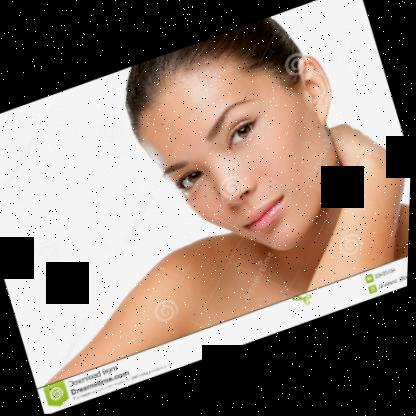Female: (119, 22, 377, 290)
